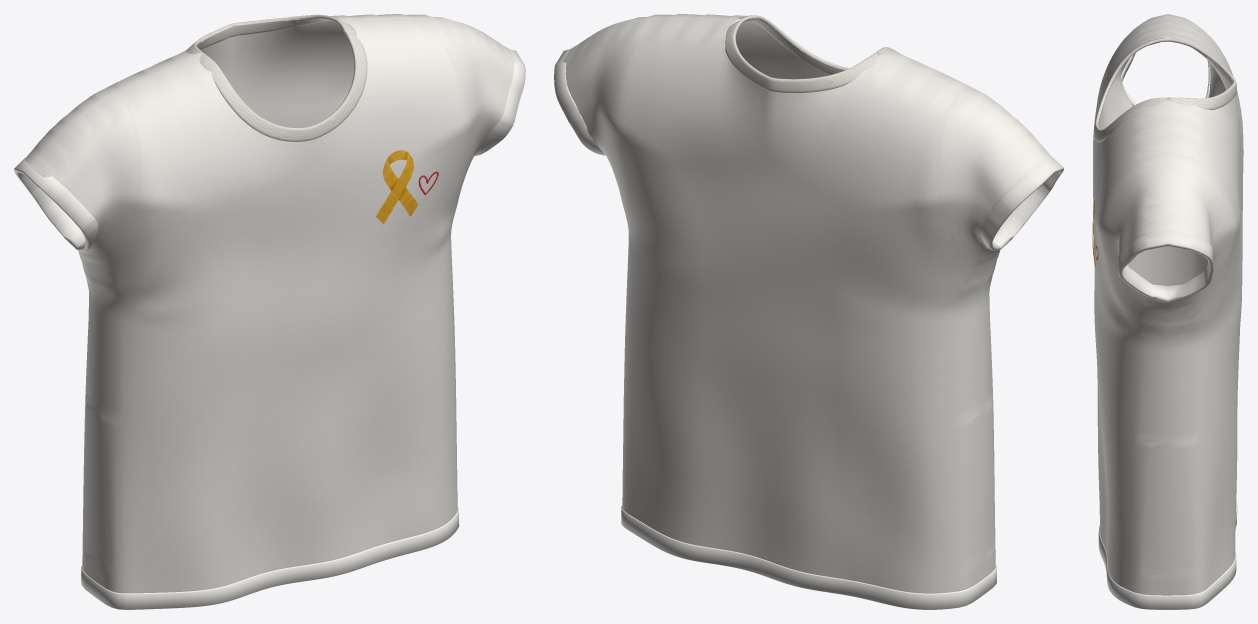
The model's file is camiseta.glb.
The picture shows the model from 3 angles, left to right: view 1: azimuth 30°, elevation 25°; view 2: azimuth 150°, elevation 25°; view 3: azimuth 270°, elevation 25°; orthographic projection. The views are drawn at different scales.
Visible parts, largest first — view 1: Camiseta, Gola, Bordado; view 2: Camiseta, Gola; view 3: Camiseta, Gola.
Part boxes in pixels (bbox=[...]): Camiseta: bbox=[14, 14, 525, 609]; Gola: bbox=[186, 14, 367, 141]; Bordado: bbox=[376, 150, 438, 223]; Camiseta: bbox=[554, 14, 1063, 609]; Gola: bbox=[725, 15, 900, 92]; Camiseta: bbox=[1093, 14, 1243, 609]; Gola: bbox=[1094, 38, 1236, 142].
Bounding box in the file's own units: 0.6971 × 0.7015 × 0.2062.
Materials: 3 (3 with a texture image).
